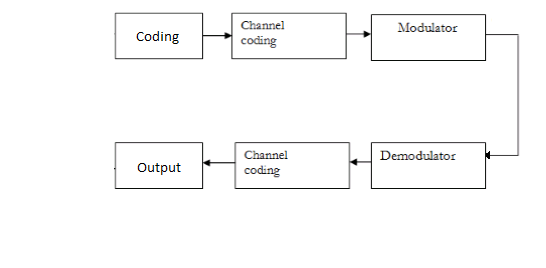arrow: (485, 31, 520, 158), (203, 157, 237, 166), (201, 31, 232, 40), (349, 156, 372, 166), (347, 30, 372, 39)
process: (233, 140, 352, 191), (369, 140, 486, 191), (370, 12, 487, 62), (231, 11, 348, 60), (112, 11, 204, 61), (113, 140, 203, 190)
text: (239, 18, 285, 49), (242, 148, 289, 177), (381, 147, 457, 161), (397, 21, 459, 34), (136, 160, 181, 175), (135, 30, 179, 44)
